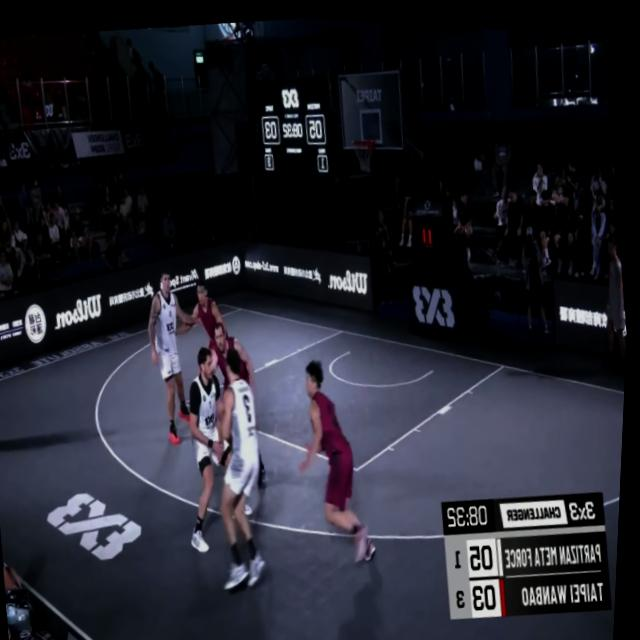hoop: (350, 123, 382, 174)
player: (198, 342, 286, 593), (287, 352, 386, 567), (173, 341, 250, 556), (140, 269, 216, 446), (185, 276, 240, 389), (203, 317, 262, 417)
